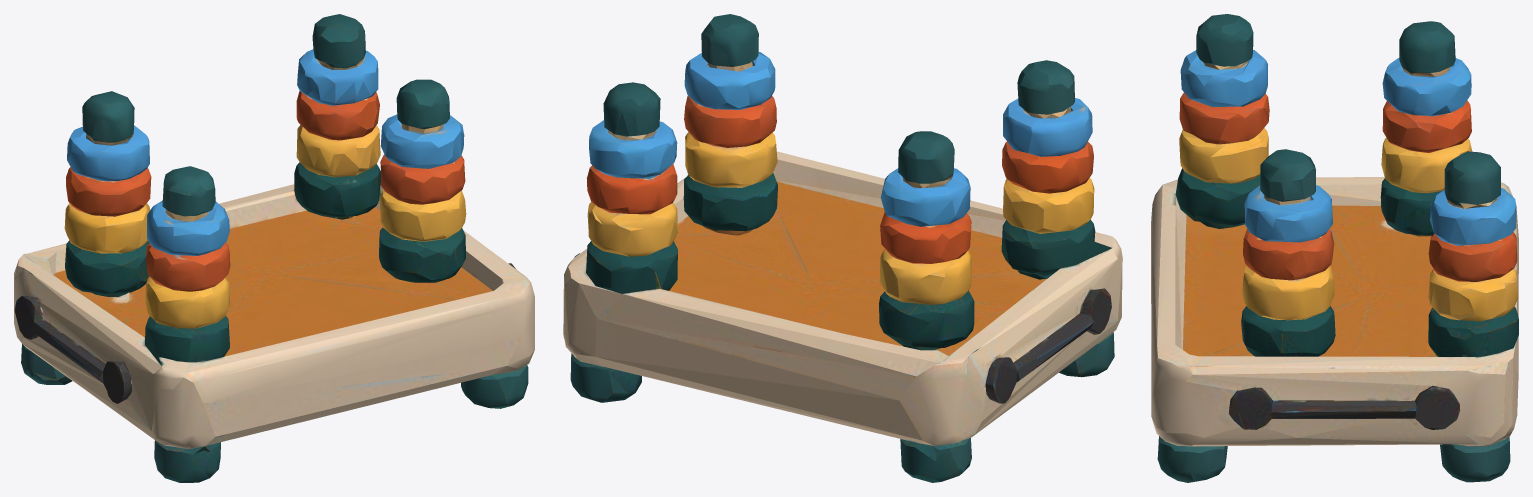
The model's file is rounded-restaurant-plate-stack-full-stack.glb.
3 views of the same model, side by side, from view 1: azimuth 30°, elevation 25°; view 2: azimuth 150°, elevation 25°; view 3: azimuth 270°, elevation 25° (orthographic). The views are drawn at different scales.
Parts seen in each view (by area): view 1: Mesh_0; view 2: Mesh_0; view 3: Mesh_0.
Boxes of the visible parts, x1,y1,x2,y2 form: Mesh_0: (14,14,534,482); Mesh_0: (563,14,1122,482); Mesh_0: (1151,14,1518,482).
Size of the model in its own units: 0.3 by 0.2059 by 0.2219.
Materials: 1 (1 with a texture image).
